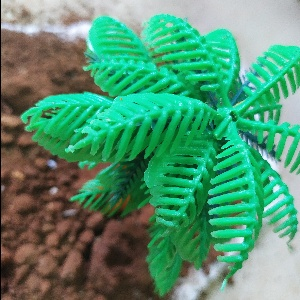plant: (27, 11, 291, 287)
